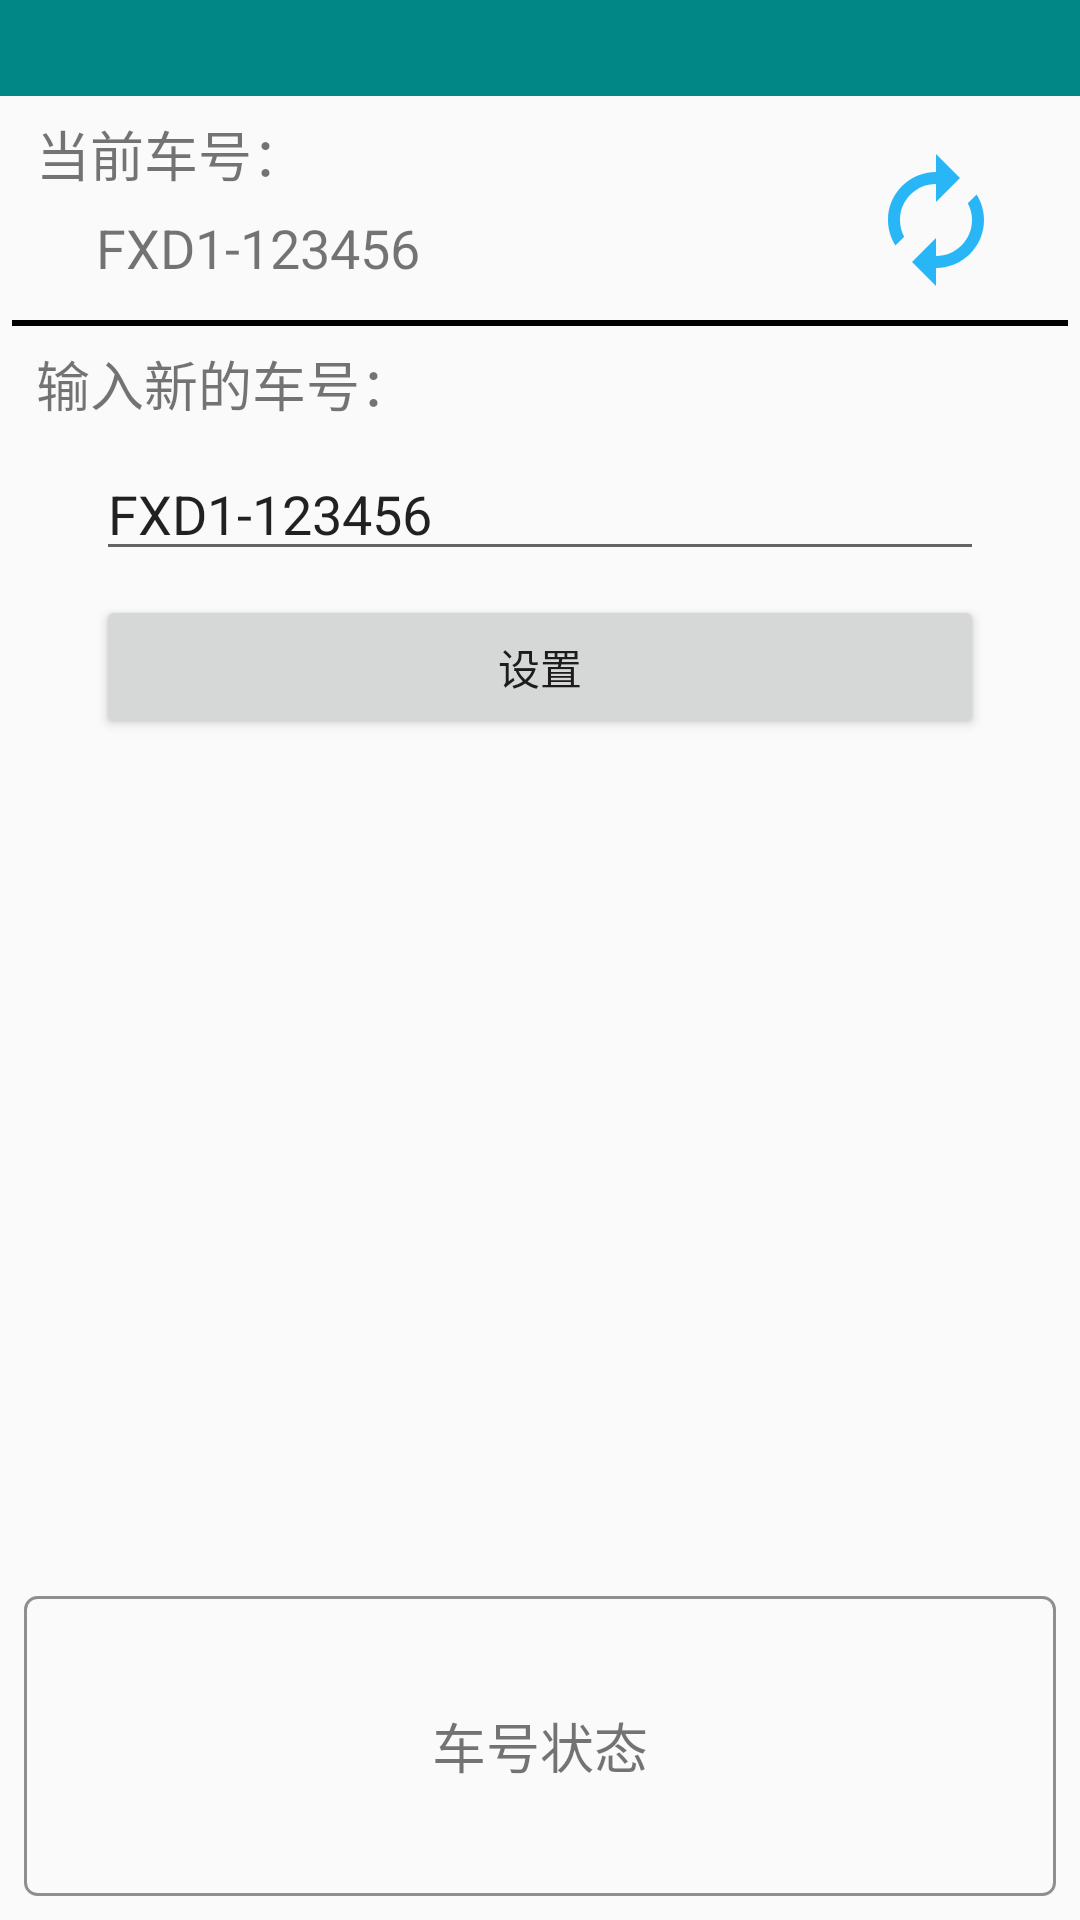

Named icons in this screenshot (1080x1920) and their bounding boxes, (x1,y1,x2,y2):
device refresh: (888,154,984,286)
